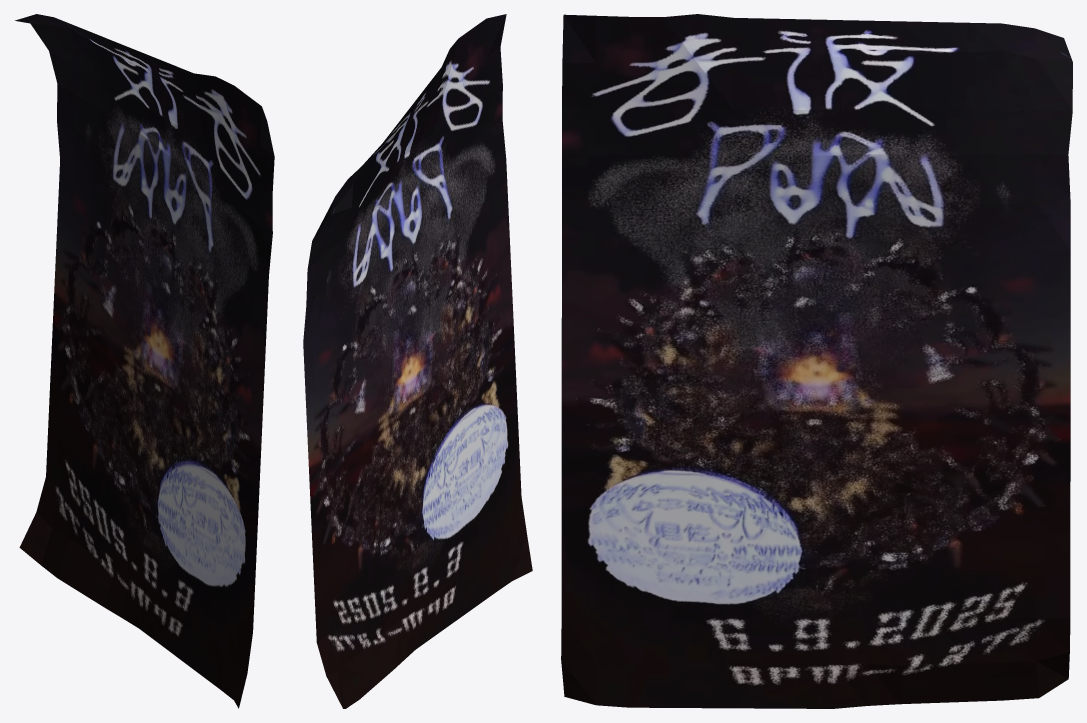
The model's file is pudu 普渡.glb.
3 renders of one model, left to right at view 1: azimuth 30°, elevation 25°; view 2: azimuth 150°, elevation 25°; view 3: azimuth 270°, elevation 25°, orthographic. The views are drawn at different scales.
Parts seen in each view (by area): view 1: pPlane1_Poster_01_Mat 12; view 2: pPlane1_Poster_01_Mat 12; view 3: pPlane1_Poster_01_Mat 12.
Boxes of the visible parts, x1=… form: pPlane1_Poster_01_Mat 12: x1=15, y1=14, x2=274, y2=708; pPlane1_Poster_01_Mat 12: x1=303, y1=14, x2=532, y2=708; pPlane1_Poster_01_Mat 12: x1=561, y1=14, x2=1072, y2=708.
Bounding box in the file's own units: 6.42 × 67.09 × 44.
1 material, 1 textured.
